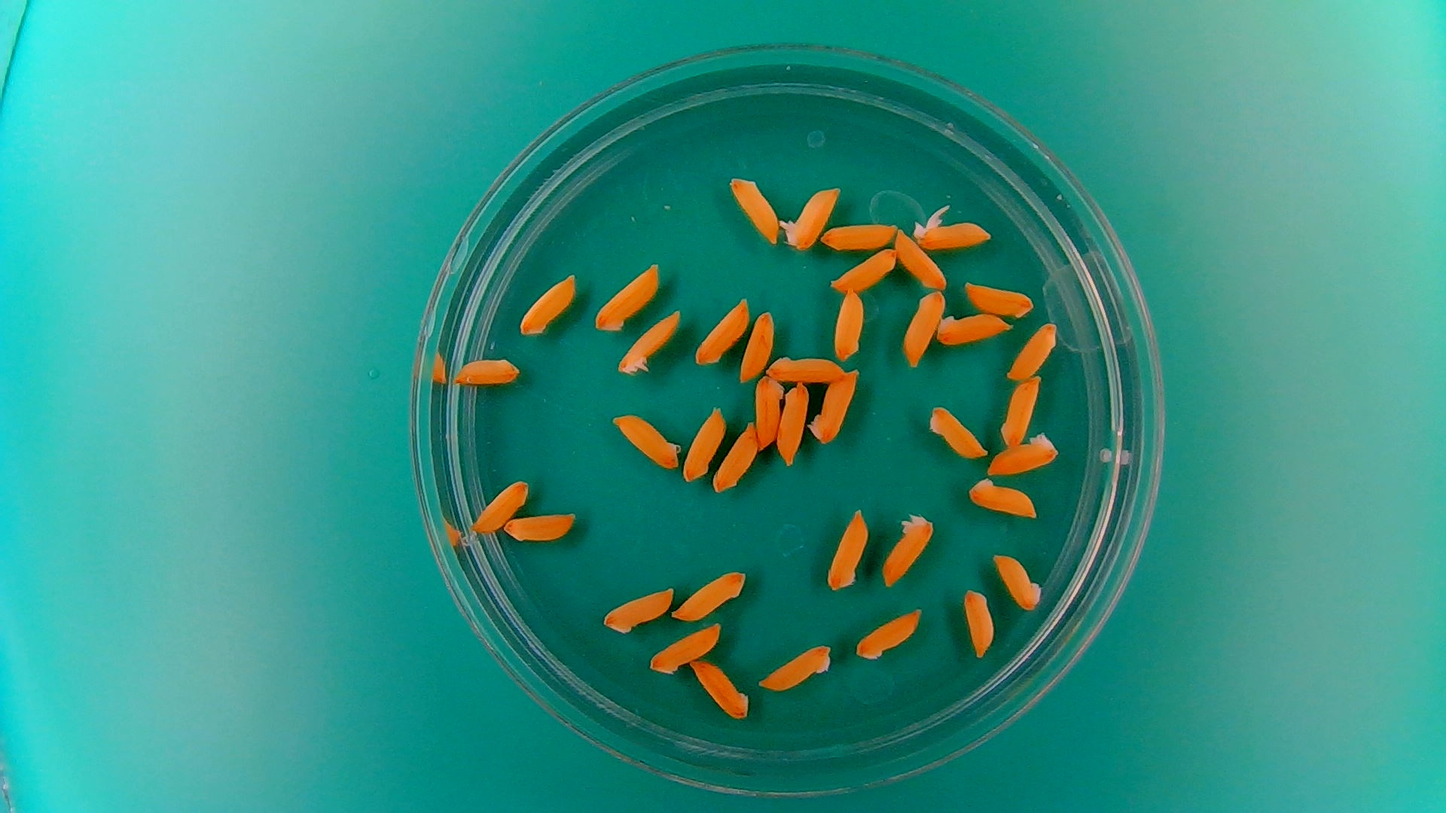no: (587, 259, 665, 334), (880, 509, 936, 589), (610, 410, 682, 472), (646, 620, 723, 676), (670, 567, 748, 622), (807, 365, 861, 444), (691, 294, 750, 366), (755, 640, 834, 693), (853, 605, 925, 662), (517, 270, 578, 337), (825, 505, 871, 593), (599, 583, 676, 635), (726, 172, 780, 246), (679, 403, 728, 483), (689, 657, 751, 720), (900, 288, 946, 369), (467, 475, 529, 535), (926, 402, 990, 460), (893, 227, 947, 291), (828, 245, 898, 294), (986, 431, 1062, 476), (1005, 319, 1060, 381), (712, 419, 758, 493), (991, 550, 1045, 612), (966, 474, 1040, 519), (933, 309, 1013, 348), (776, 377, 811, 466), (999, 376, 1042, 448), (737, 307, 777, 383), (962, 279, 1035, 318), (503, 508, 579, 544), (961, 585, 996, 661), (765, 352, 848, 384), (831, 286, 865, 361), (753, 373, 785, 452), (820, 220, 896, 253), (453, 354, 523, 387)
yes: (617, 306, 684, 376), (779, 182, 843, 252), (911, 209, 995, 250)
